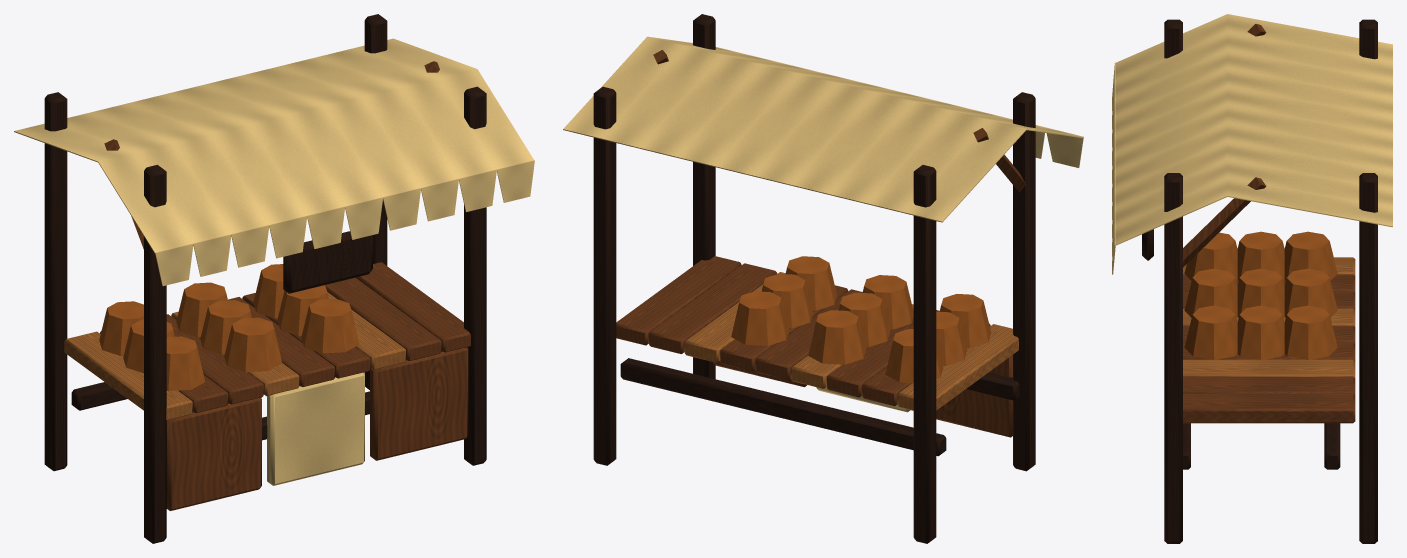
Rendered from Banca_do_padeiro_LOD0.fbx.
3 renders of one model, left to right at view 1: azimuth 30°, elevation 25°; view 2: azimuth 150°, elevation 25°; view 3: azimuth 270°, elevation 25°, orthographic.
Visible parts, largest first — view 1: Banca_do_padeiro_LOD0; view 2: Banca_do_padeiro_LOD0; view 3: Banca_do_padeiro_LOD0.
Part boxes in pixels (x1,y1,x2,y2): Banca_do_padeiro_LOD0: [14, 14, 534, 543]; Banca_do_padeiro_LOD0: [563, 14, 1083, 543]; Banca_do_padeiro_LOD0: [1112, 14, 1392, 543].
Bounding box in the file's own units: 320 × 300 × 209.
Materials: 1 (1 with a texture image).
